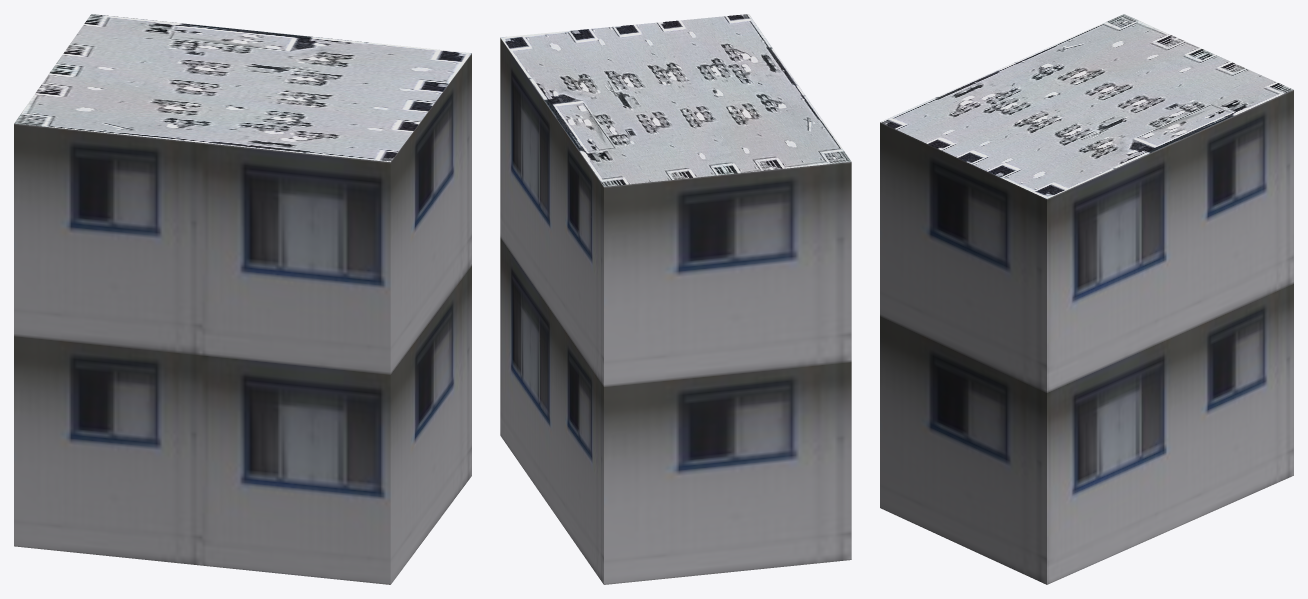
File: ResTex__2756.fbx
The picture shows the model from 3 angles, left to right: view 1: azimuth 30°, elevation 25°; view 2: azimuth 150°, elevation 25°; view 3: azimuth 270°, elevation 25°; orthographic projection. The views are drawn at different scales.
Visible parts, largest first — view 1: CityEngineMaterial_9_m, CityEngineMaterial_2_m; view 2: CityEngineMaterial_9_m, CityEngineMaterial_2_m; view 3: CityEngineMaterial_9_m, CityEngineMaterial_2_m.
Boxes of the visible parts, x1=… form: CityEngineMaterial_9_m: x1=14, y1=53, x2=471, y2=584; CityEngineMaterial_2_m: x1=14, y1=14, x2=471, y2=161; CityEngineMaterial_9_m: x1=500, y1=38, x2=851, y2=584; CityEngineMaterial_2_m: x1=500, y1=14, x2=851, y2=186; CityEngineMaterial_9_m: x1=880, y1=90, x2=1293, y2=584; CityEngineMaterial_2_m: x1=880, y1=14, x2=1293, y2=198.
Size of the model in its own units: 6.17 by 6 by 5.83.
2 materials, 2 textured.
